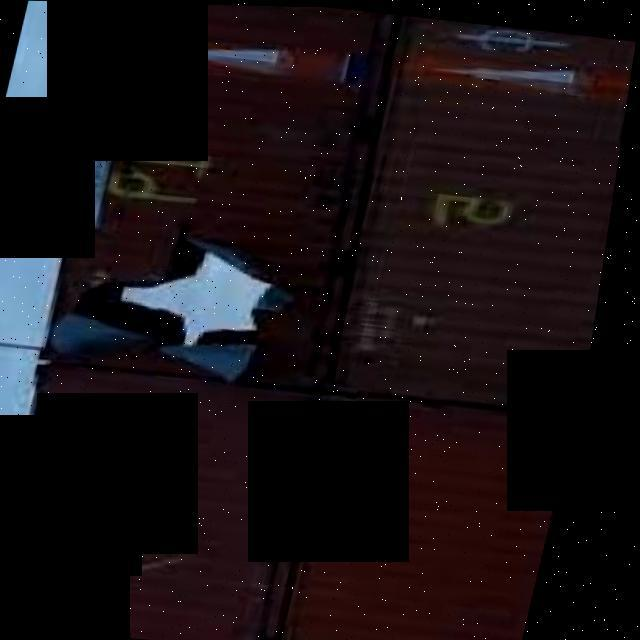hole: (54, 210, 330, 390)
